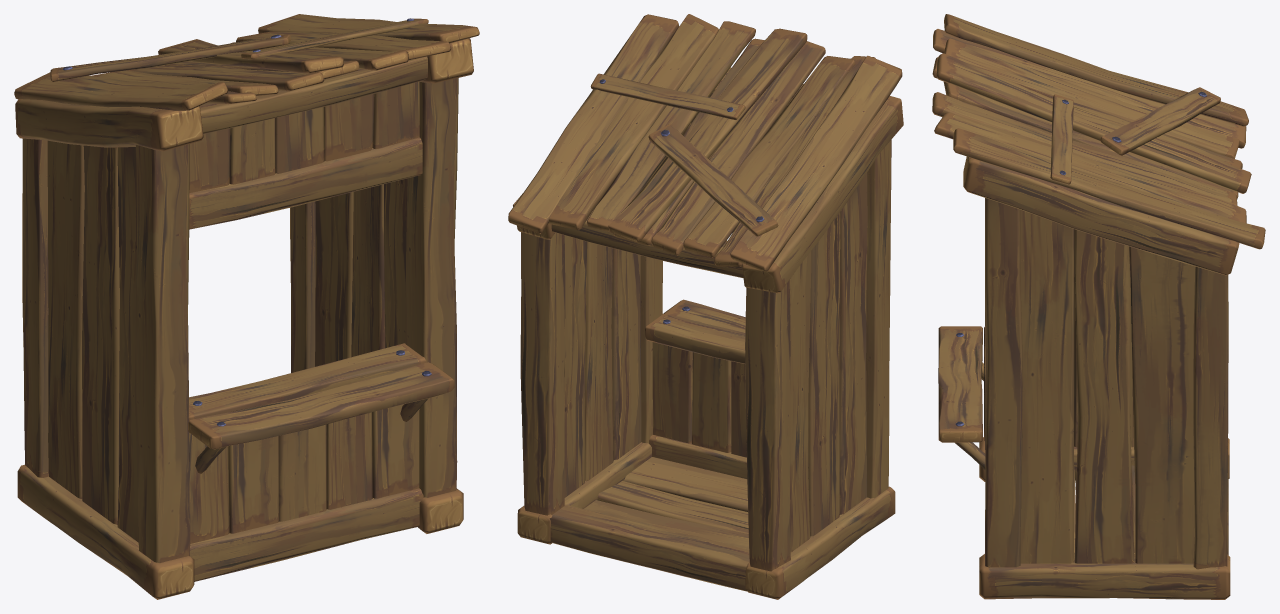
The model's file is SM_MOD_booth_town.fbx.
3 renders of one model, left to right at view 1: azimuth 30°, elevation 25°; view 2: azimuth 150°, elevation 25°; view 3: azimuth 270°, elevation 25°, orthographic. The views are drawn at different scales.
Parts seen in each view (by area): view 1: SM_MOD_booth_town_LOD0; view 2: SM_MOD_booth_town_LOD0; view 3: SM_MOD_booth_town_LOD0.
Part boxes in pixels (x1,y1,x2,y2): SM_MOD_booth_town_LOD0: (14, 14, 479, 599); SM_MOD_booth_town_LOD0: (508, 14, 903, 599); SM_MOD_booth_town_LOD0: (932, 14, 1265, 599).
Size of what is drawn, in the model's own units: 188 by 298 by 192.
